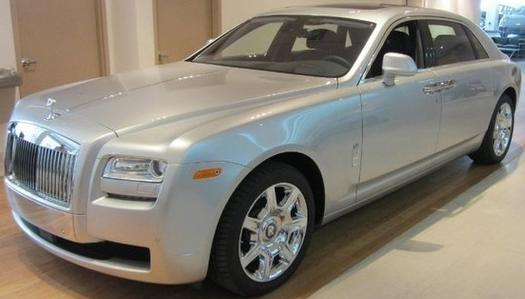front_view: (0, 110, 271, 299)
headlight: (87, 142, 167, 200)
side_glass: (372, 17, 495, 75)
